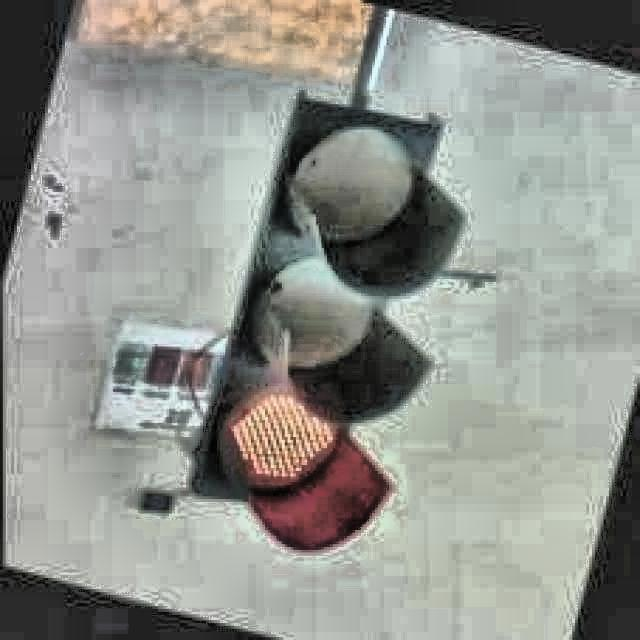red: (234, 99, 402, 544)
